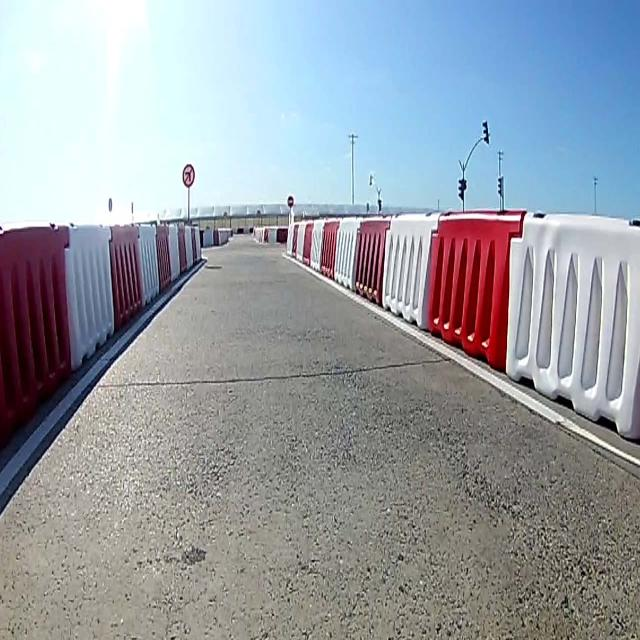girisyok: (288, 195, 294, 207)
soladonulmez: (182, 160, 195, 188)
